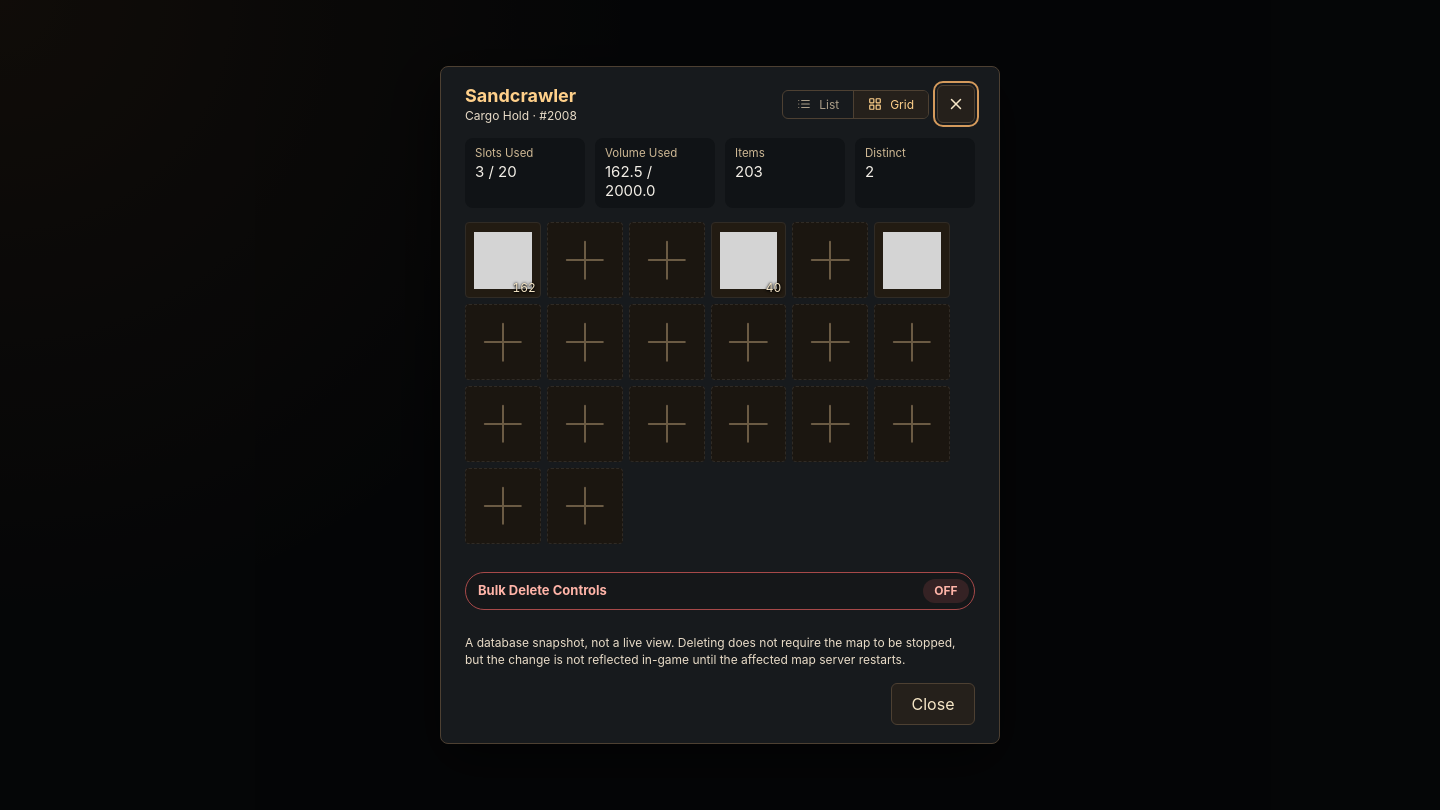
it: VehicleStorageOverlay deletion › sends a count for a partial removal and resets the amount to what remains
Check: the text "Slots Used" is shown, box [475,146,533,160]
Click the button "List": (818, 104) [783,91,853,118]
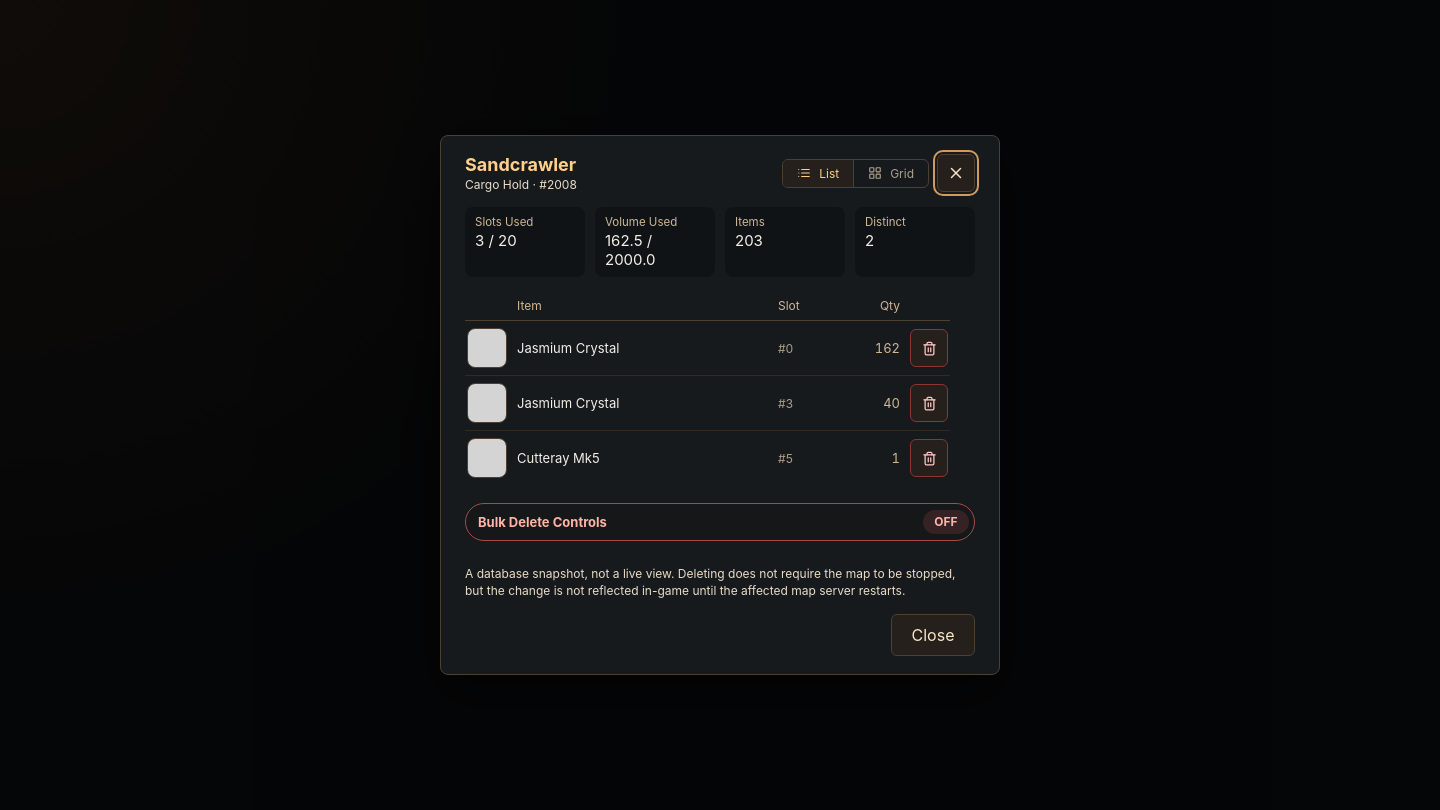
Check: the element with class "bases-inventory-contents-row" showing "Jasmium Crystal #0 162" is shown, box [465,321,950,376]
Click the button "Jasmium Crystal" next to "#0": (642, 348) [517,340,768,356]
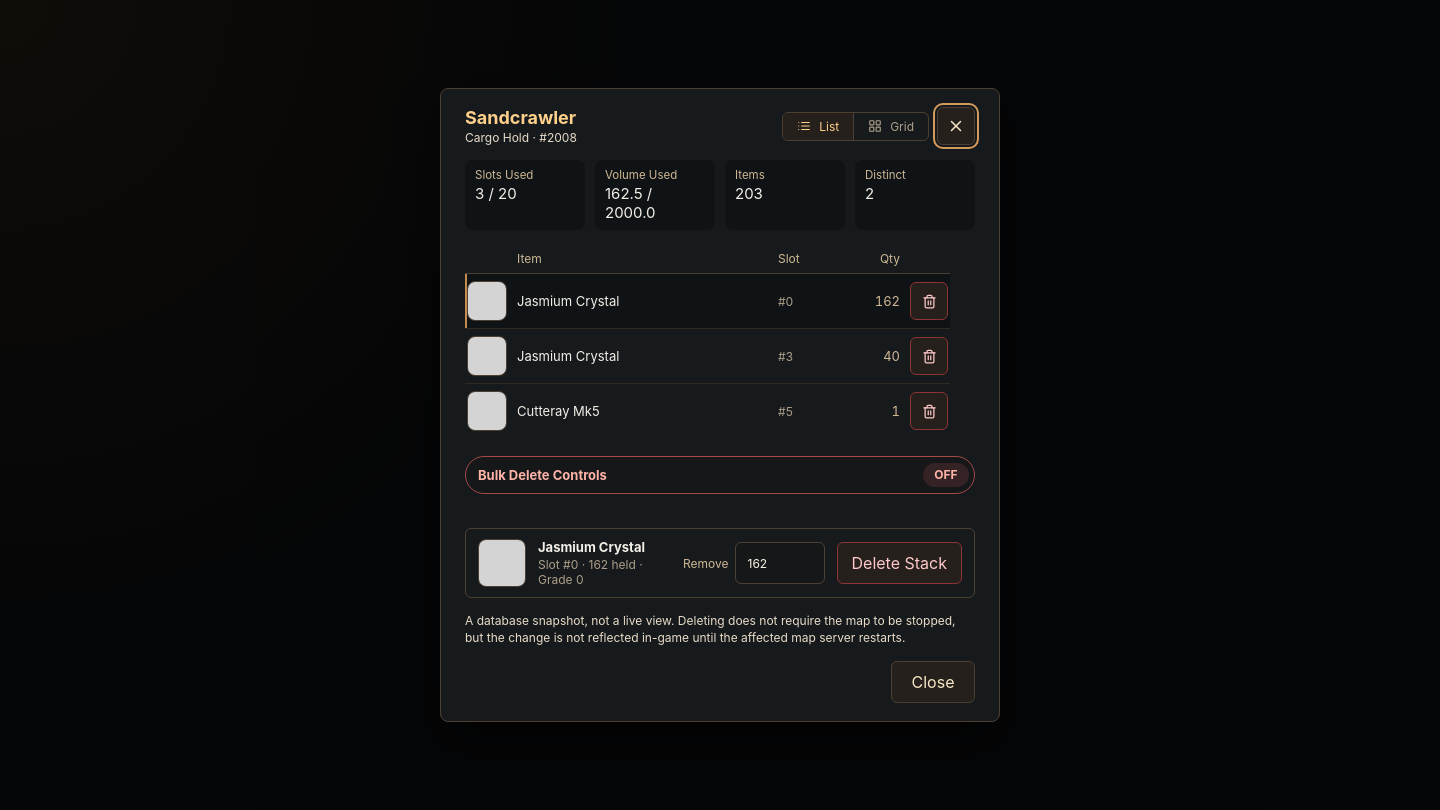
Check: the number field named "Amount of Jasmium Crystal to remove" holds "162"
Replace the text in the number field named "Amount of Jasmium Crystal to remove" with "100": (780, 563) [734,542,824,584]
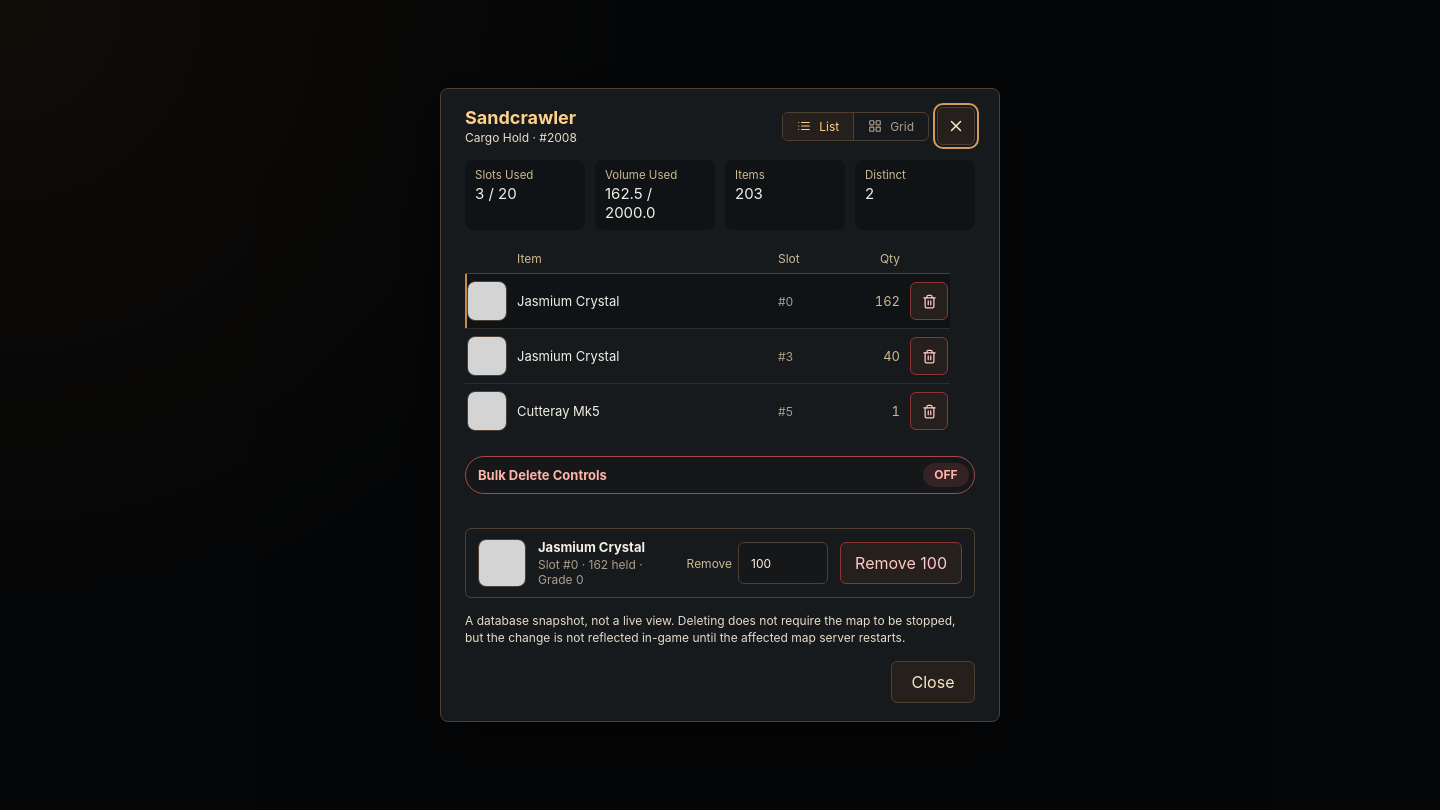
Click the button "Remove 100": (901, 563) [840,542,962,584]
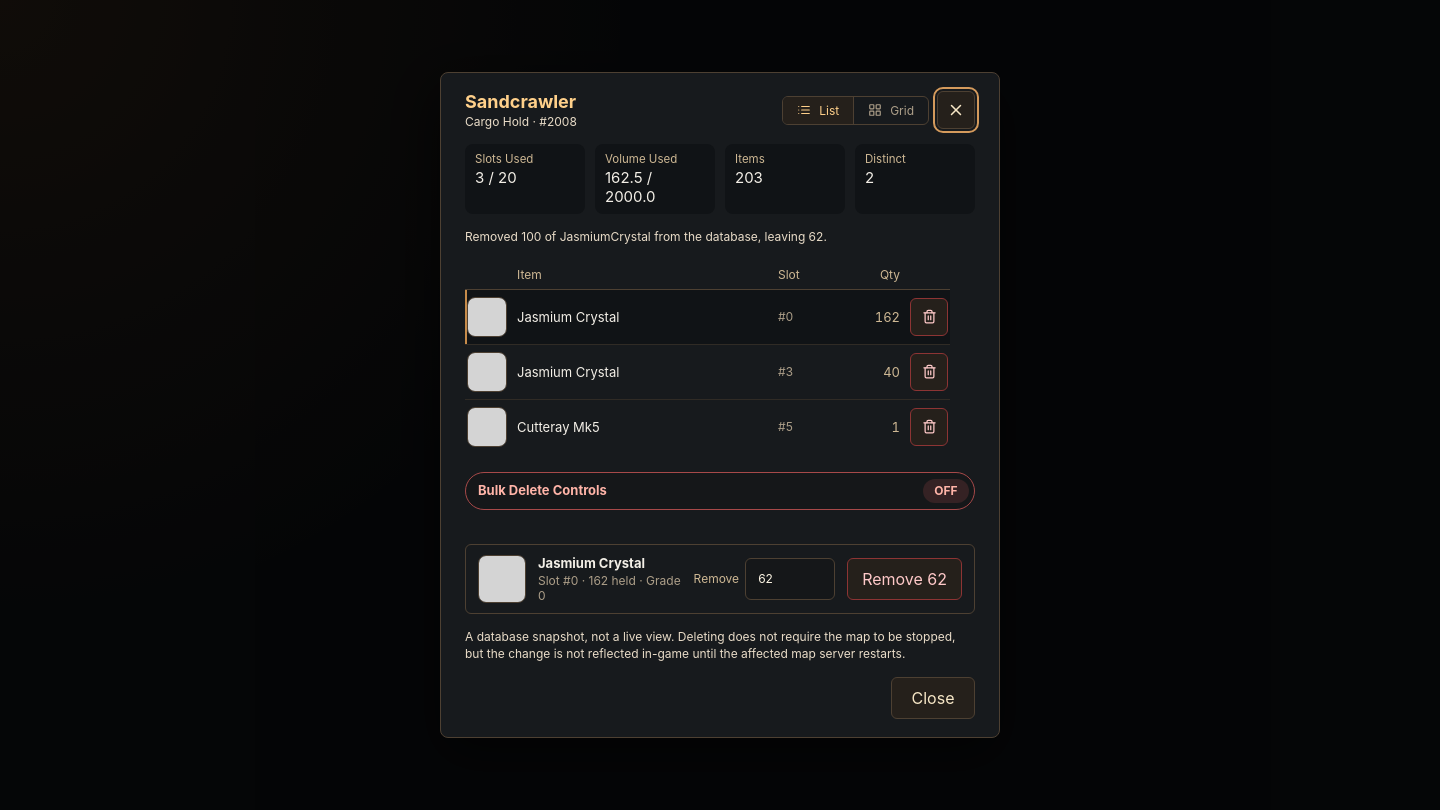
Check: the number field named "Amount of Jasmium Crystal to remove" holds "62", box [745,558,835,600]
